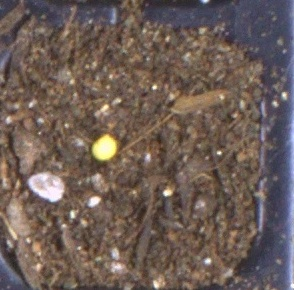chilli seed: (90, 134, 117, 160)
